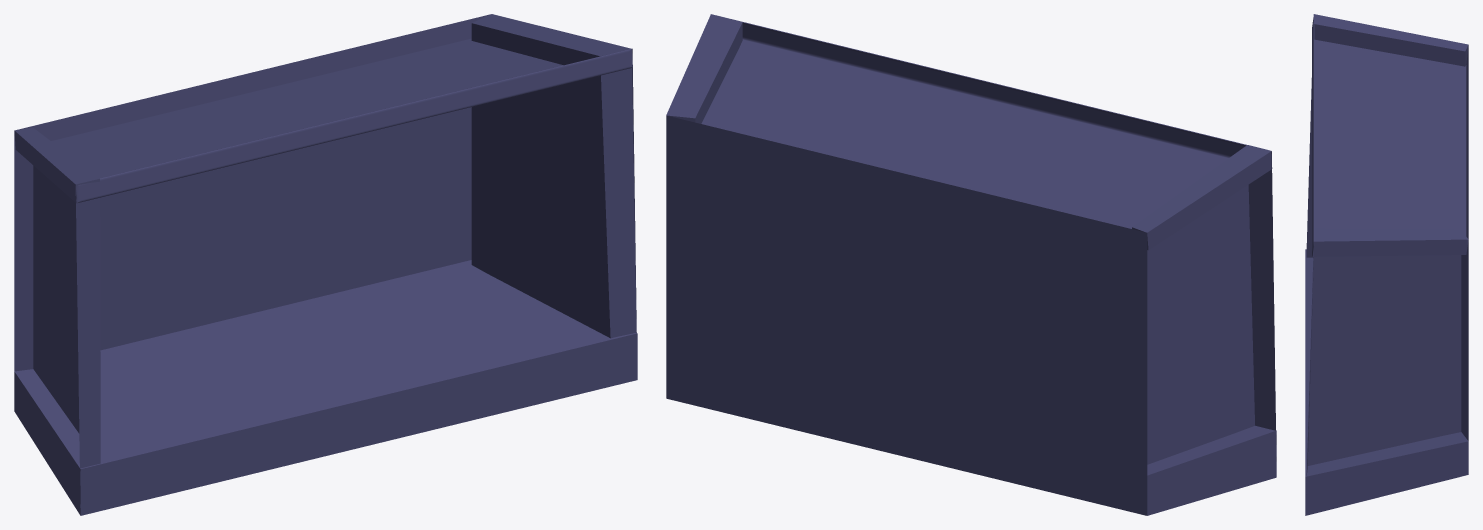
The model's file is music1.gltf.
3 views of the same model, side by side, from view 1: azimuth 30°, elevation 25°; view 2: azimuth 150°, elevation 25°; view 3: azimuth 270°, elevation 25° (orthographic). The views are drawn at different scales.
Parts seen in each view (by area): view 1: Cube, Cube.001; view 2: Cube.001, Cube; view 3: Cube.
Part boxes in pixels (<box>): Cube: <box>14,14,637,515</box>; Cube.001: <box>100,107,471,350</box>; Cube.001: <box>666,115,1147,515</box>; Cube: <box>666,14,1276,515</box>; Cube: <box>1305,14,1468,515</box>.
Bounding box in the file's own units: 16.02 × 9.01 × 4.85.
